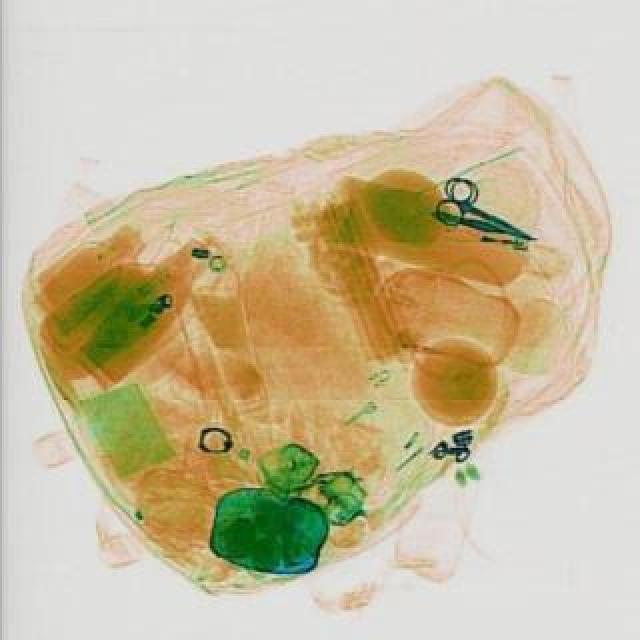pliers: (426, 170, 542, 260)
